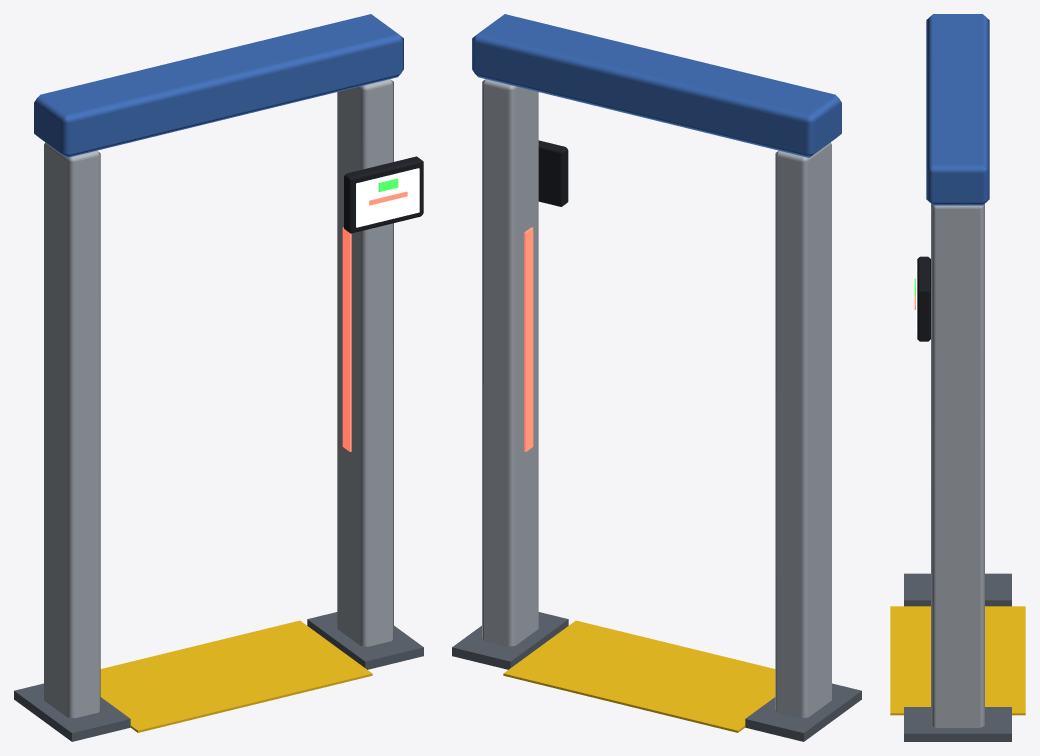
File: station_buffer_ausstattung_3_2.glb
3 renders of one model, left to right at view 1: azimuth 30°, elevation 25°; view 2: azimuth 150°, elevation 25°; view 3: azimuth 270°, elevation 25°, orthographic. The views are drawn at different scales.
Parts seen in each view (by area): view 1: station_buffer_ausstattung_3_2; view 2: station_buffer_ausstattung_3_2; view 3: station_buffer_ausstattung_3_2.
Boxes of the visible parts, x1,y1,x2,y2 form: station_buffer_ausstattung_3_2: (14,14,423,741); station_buffer_ausstattung_3_2: (452,14,861,741); station_buffer_ausstattung_3_2: (890,14,1025,741).
Size of the model in its own units: 0.86 by 1.4 by 0.3.
